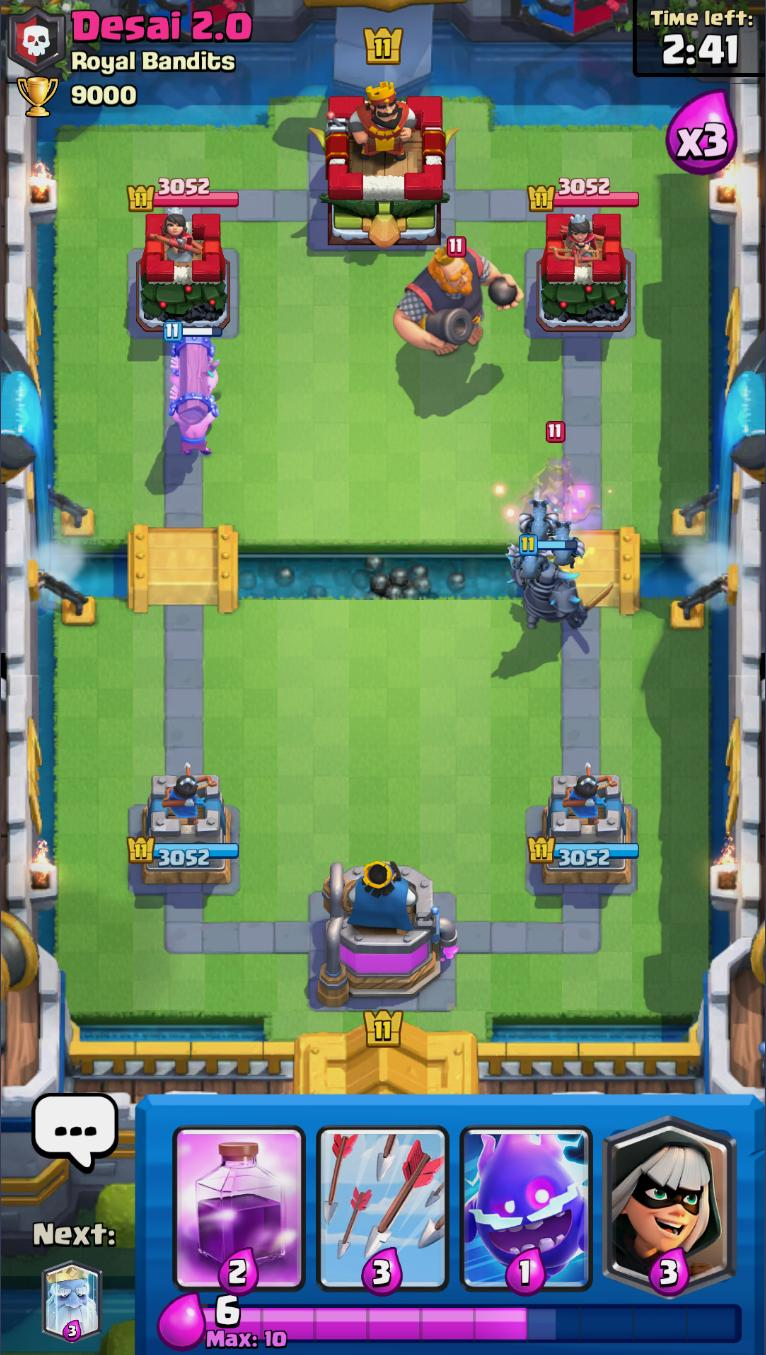ArcherQueen: (519, 420, 602, 529)
ArrowDeck: (311, 1098, 454, 1300)
BanditDeck: (601, 1097, 740, 1294)
ElectroSpiritDeck: (454, 1096, 600, 1297)
Elixir: (202, 1297, 745, 1350)
EnemyTower: (524, 212, 634, 333), (125, 211, 232, 333)
KingTower: (308, 82, 462, 250)
MyBattleRam: (162, 319, 222, 457)
MyKingTower: (317, 859, 459, 1009)
MyMinion: (536, 520, 589, 570), (504, 531, 552, 581), (518, 497, 560, 539)
MyPekka: (507, 533, 615, 630)
MyPrincessTower: (128, 771, 239, 896), (529, 769, 640, 886)
MyPrincessTowerHP: (127, 835, 240, 867), (528, 837, 640, 869)
PrincessTower: (150, 215, 205, 268), (550, 216, 607, 267)
RageDeck: (169, 1094, 313, 1295)
RoyaleGhostNext: (42, 1265, 104, 1342)
RoyaleGiant: (393, 236, 525, 358)
TowerPrincessHP: (529, 177, 641, 211), (128, 178, 240, 211)
